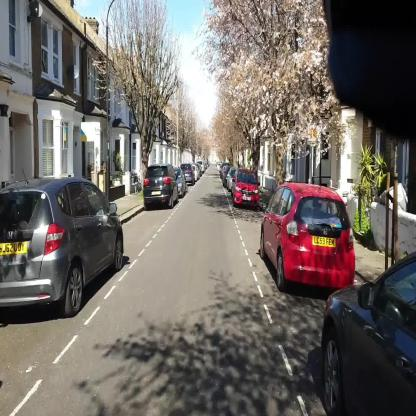car: (1, 178, 125, 314), (260, 182, 356, 294), (144, 165, 178, 209), (232, 167, 259, 210), (175, 168, 185, 199), (181, 164, 195, 184)
